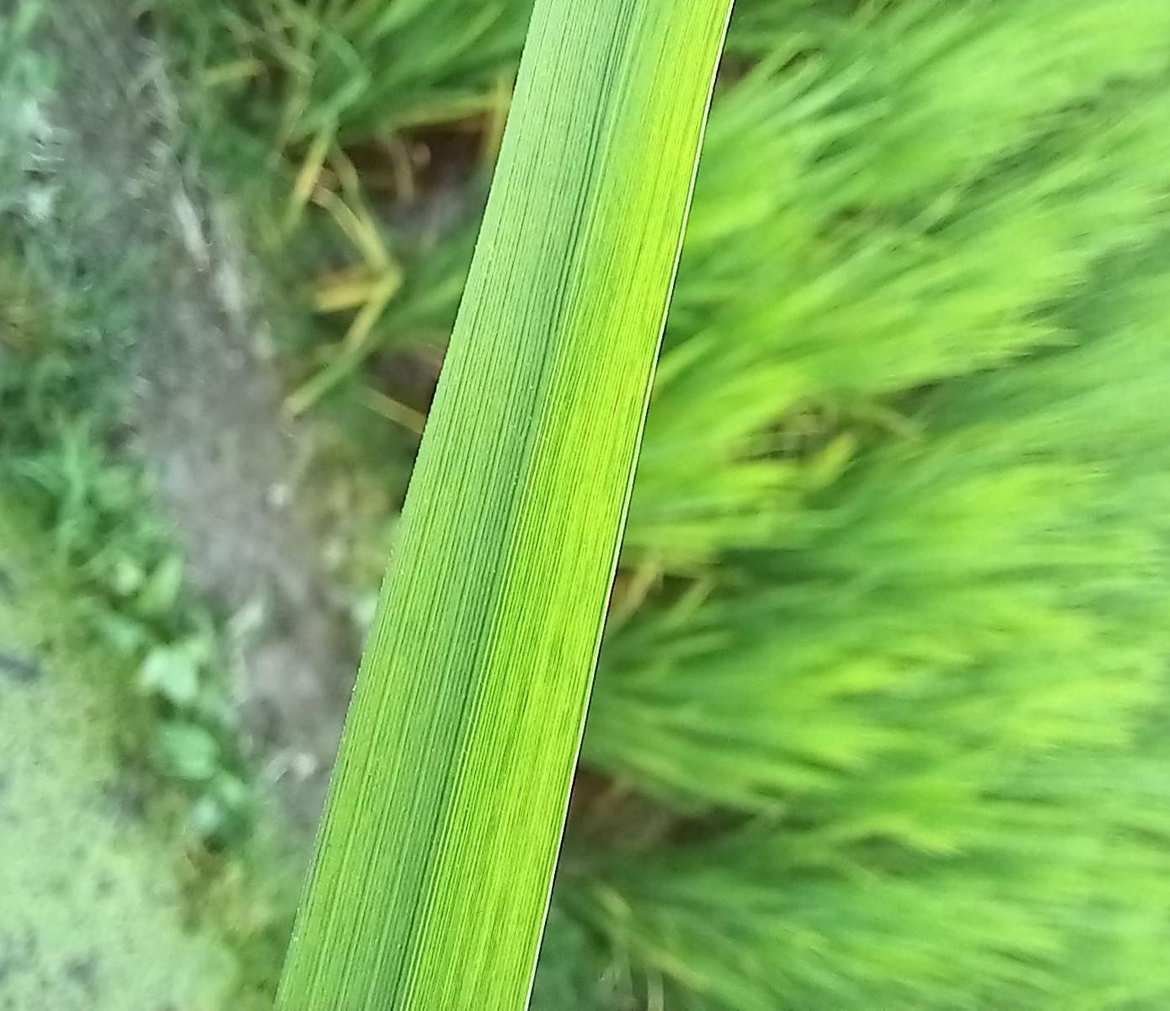Healthy: (273, 0, 734, 1010)
